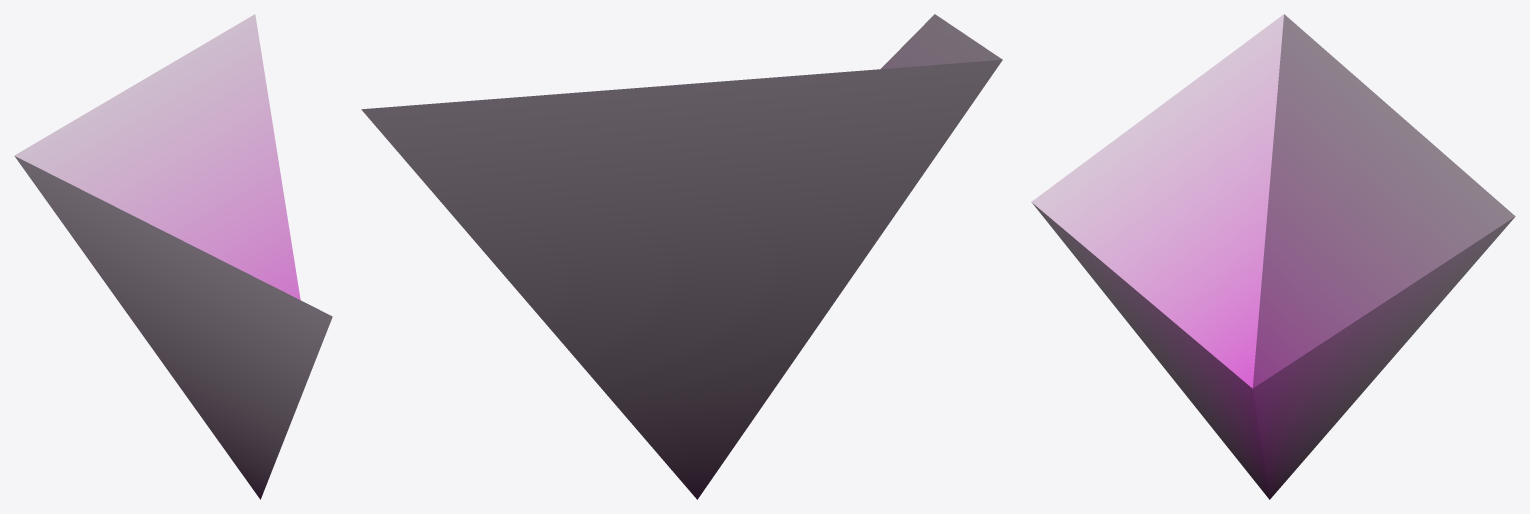
The model's file is c_flower_bell_ab.fbx.
The picture shows the model from 3 angles, left to right: view 1: azimuth 30°, elevation 25°; view 2: azimuth 150°, elevation 25°; view 3: azimuth 270°, elevation 25°; orthographic projection. The views are drawn at different scales.
Parts seen in each view (by area): view 1: c_flower_bell_ab; view 2: c_flower_bell_ab; view 3: c_flower_bell_ab.
Part boxes in pixels (x1,y1,x2,y2): c_flower_bell_ab: [14, 14, 332, 499]; c_flower_bell_ab: [361, 14, 1002, 499]; c_flower_bell_ab: [1031, 14, 1515, 499].
Size of the model in its own units: 0.1304 by 0.1361 by 0.159.
